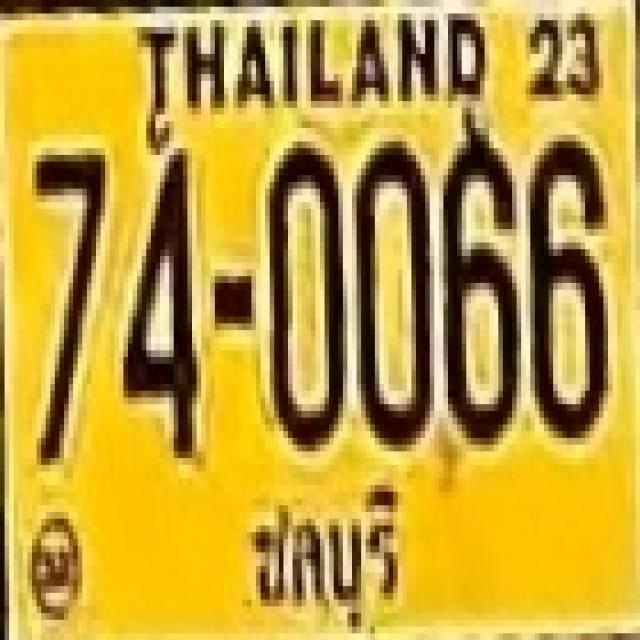0: (352, 138, 430, 441), (265, 142, 343, 444)
4: (119, 142, 196, 452)
6: (439, 128, 516, 438), (526, 135, 603, 431)
7: (34, 152, 103, 454), (34, 152, 103, 388), (34, 148, 103, 357)
CBI: (238, 477, 415, 629)
